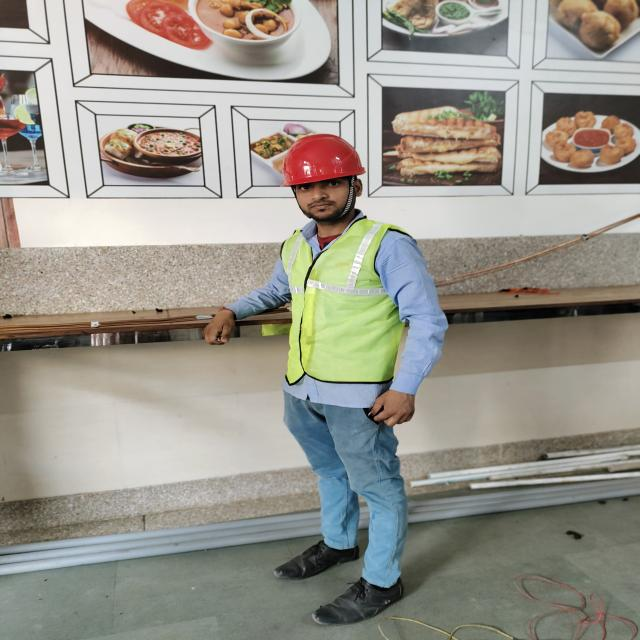safe: (276, 135, 446, 623)
